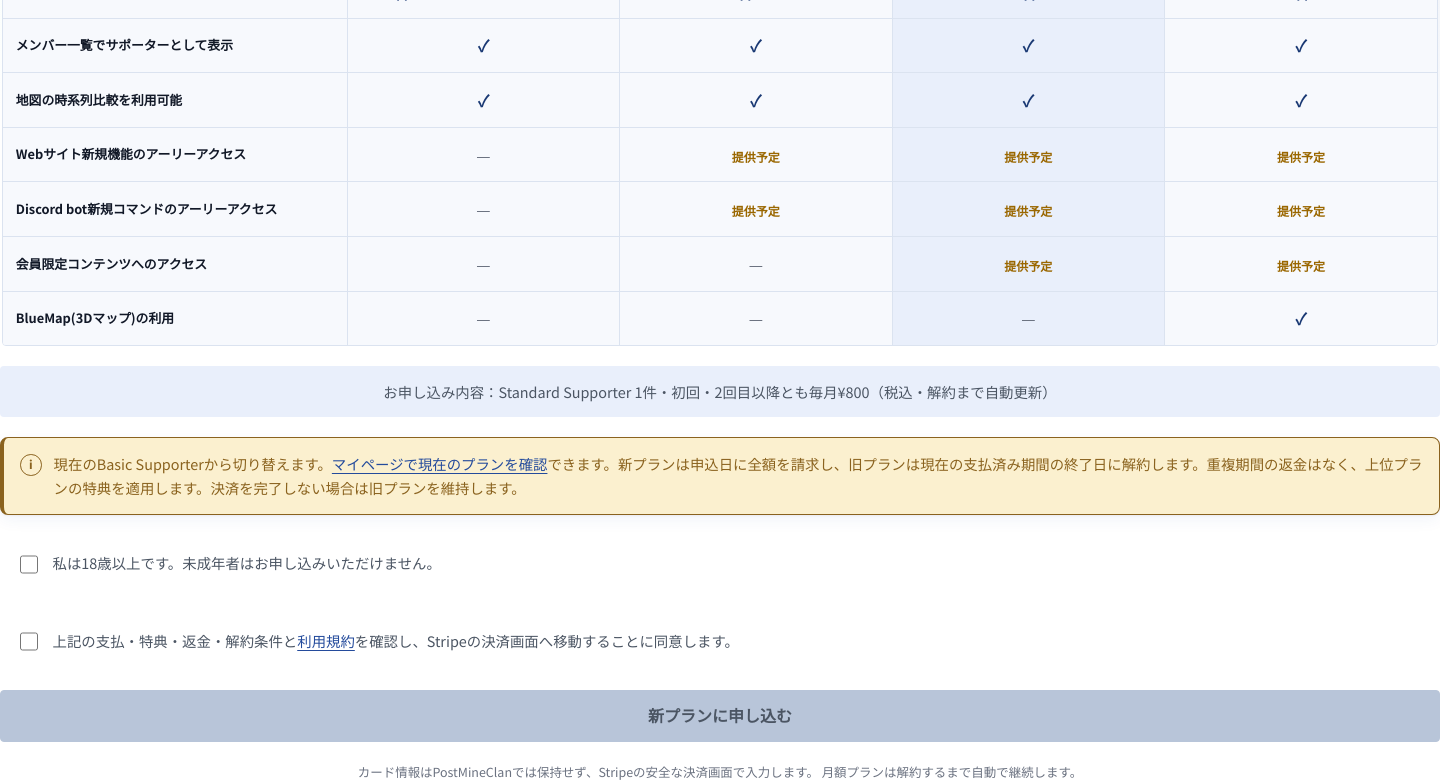
it: SupportForm › offers a paid replacement when exactly one current plan is switchable
This screenshot has width=1440, height=784.
(page scrolled)
Click the checkbox labelled "私は18歳以上です。未成年者はお申し込みいただけません。": (29, 564) [20, 555, 38, 574]
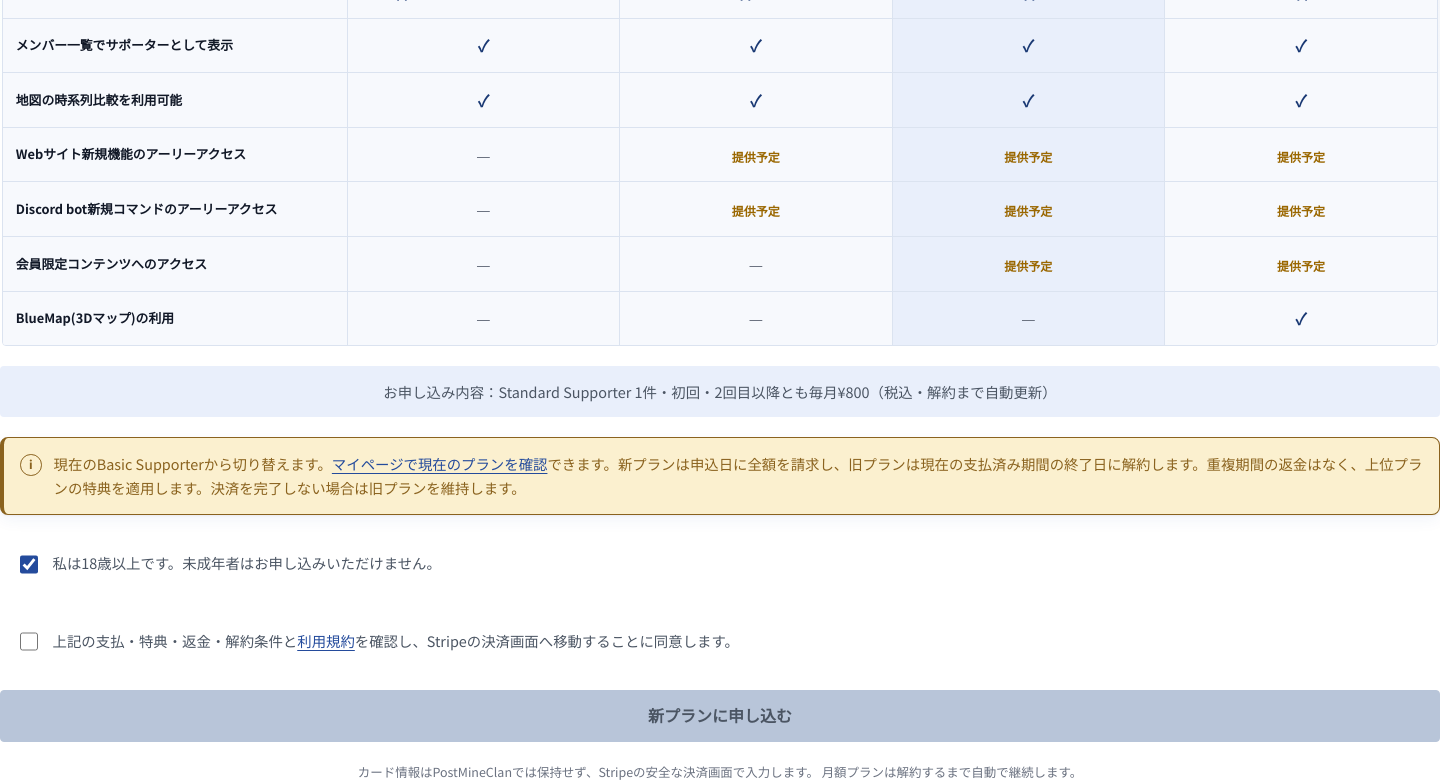
Click the checkbox labelled "上記の支払・特典・返金・解約条件と 利用規約 を確認し、Stripeの決済画面へ移動することに同意します。": (29, 642) [20, 632, 38, 651]
(page scrolled)
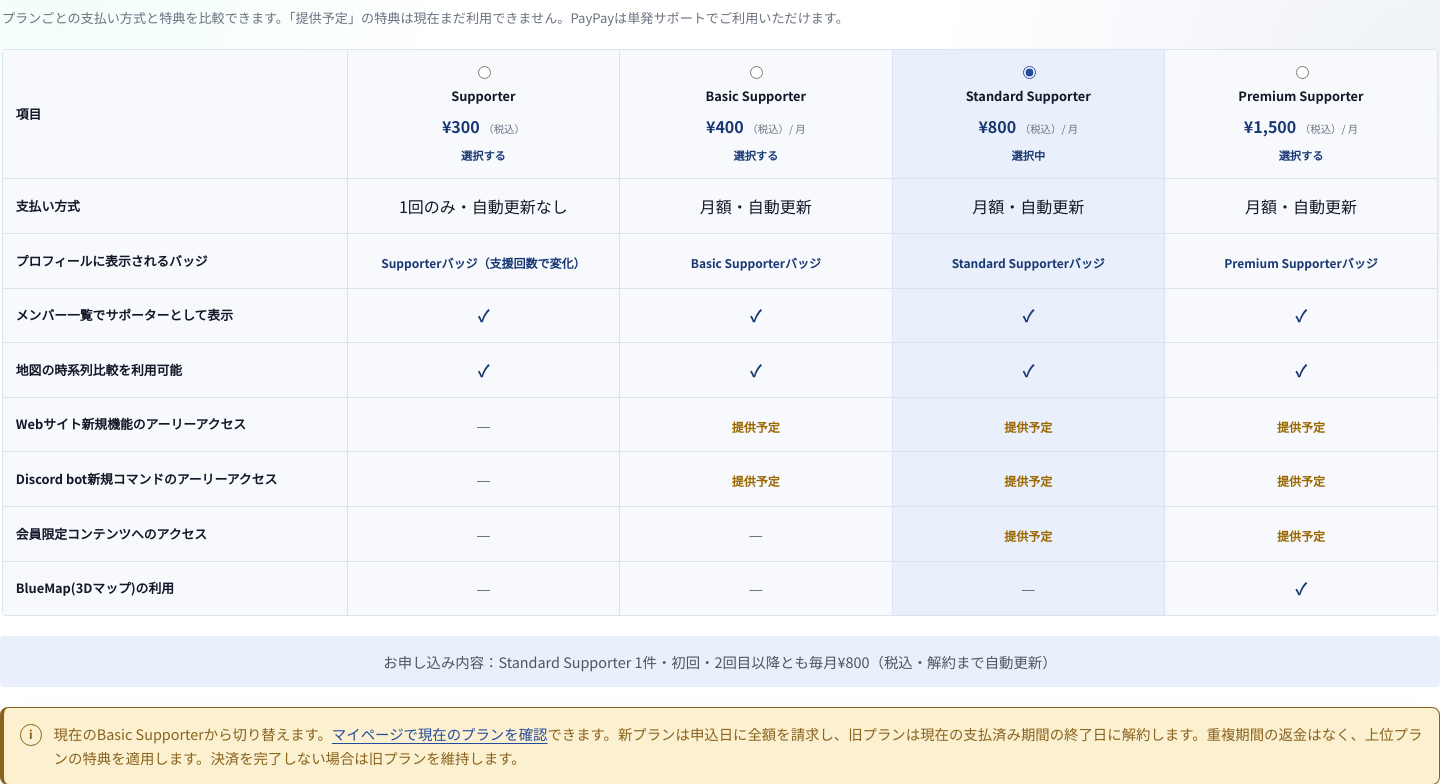
Expected: the text "旧プランは現在の支払済み期間の終了日に解約" is shown, [54, 723, 1422, 768]
Click the radio button labelled "Basic Supporter ¥400 （税込）/ 月 選択する": (757, 72) [750, 66, 763, 79]
(page scrolled)
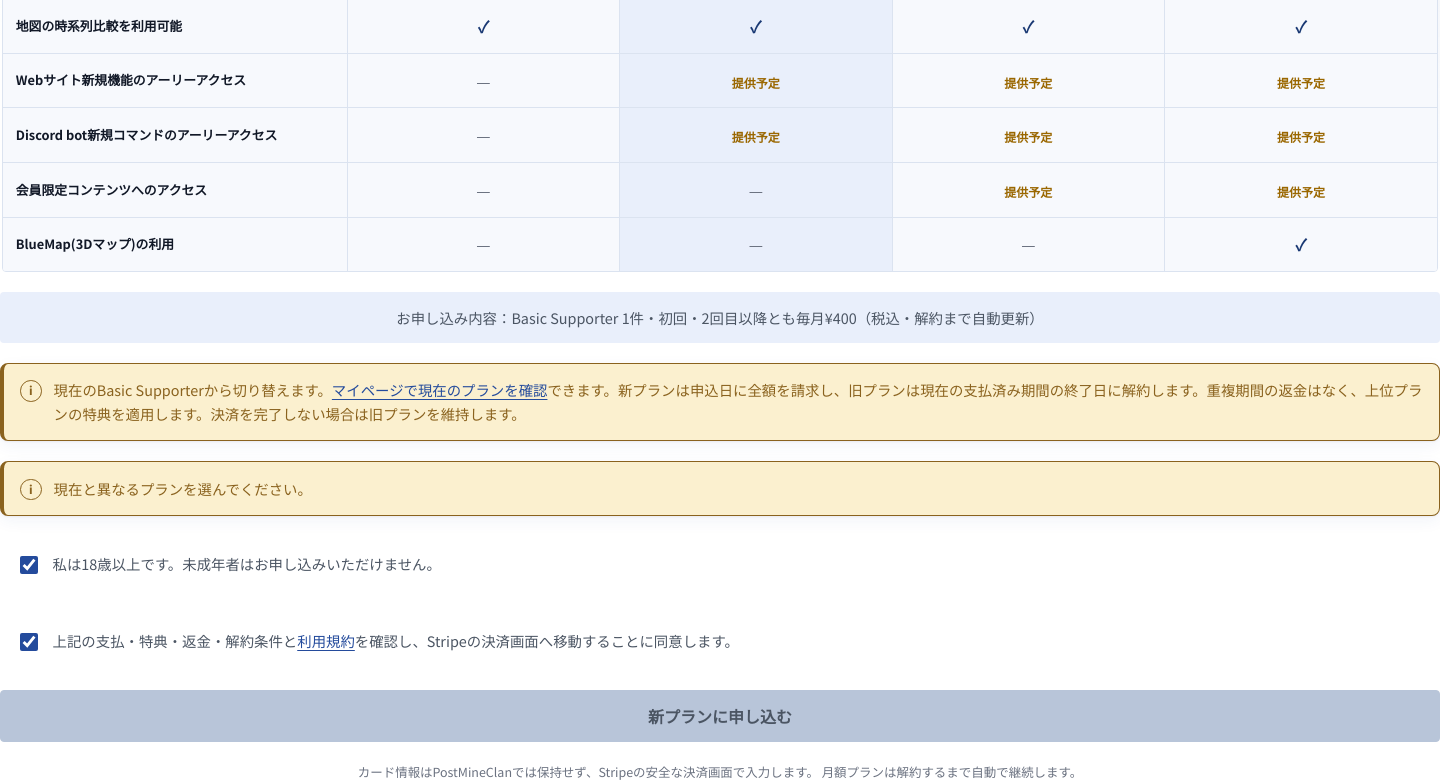
Expected: the button "新プランに申し込む" is disabled, [0, 690, 1439, 742]
